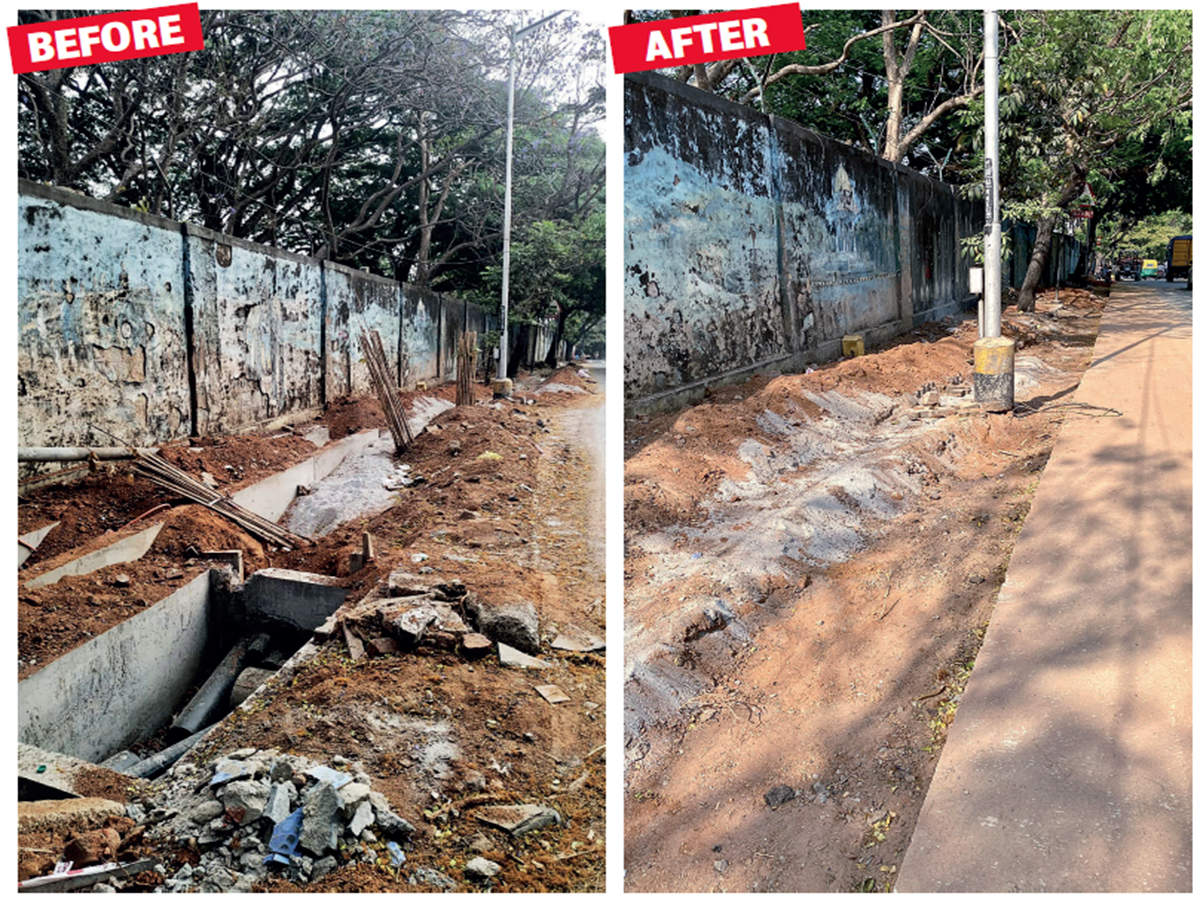BAD: (340, 508, 603, 900), (48, 735, 456, 900)
Good: (751, 336, 1200, 900), (886, 428, 1189, 900), (1034, 272, 1192, 900)
IGNORE: (17, 16, 194, 68), (628, 12, 793, 63)
Industrial : Recyclable: (21, 435, 307, 549), (351, 568, 536, 659), (162, 625, 308, 734), (24, 737, 186, 831)
